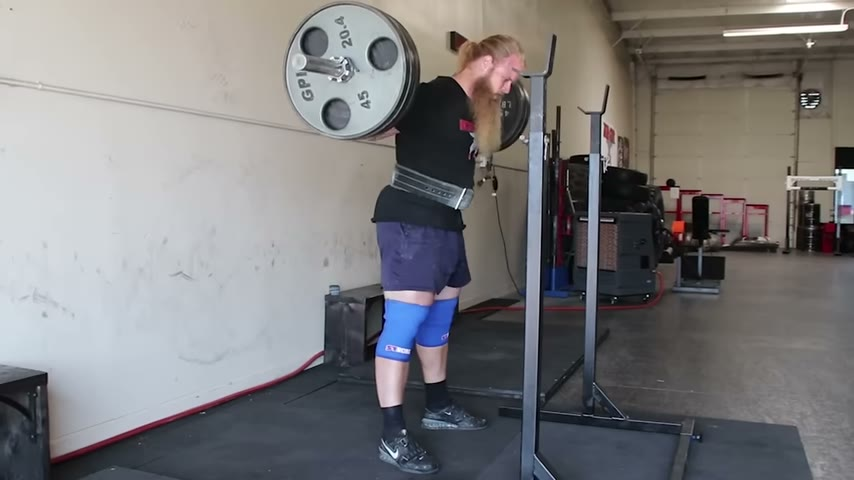barbell_plate_side: (278, 3, 340, 143)
